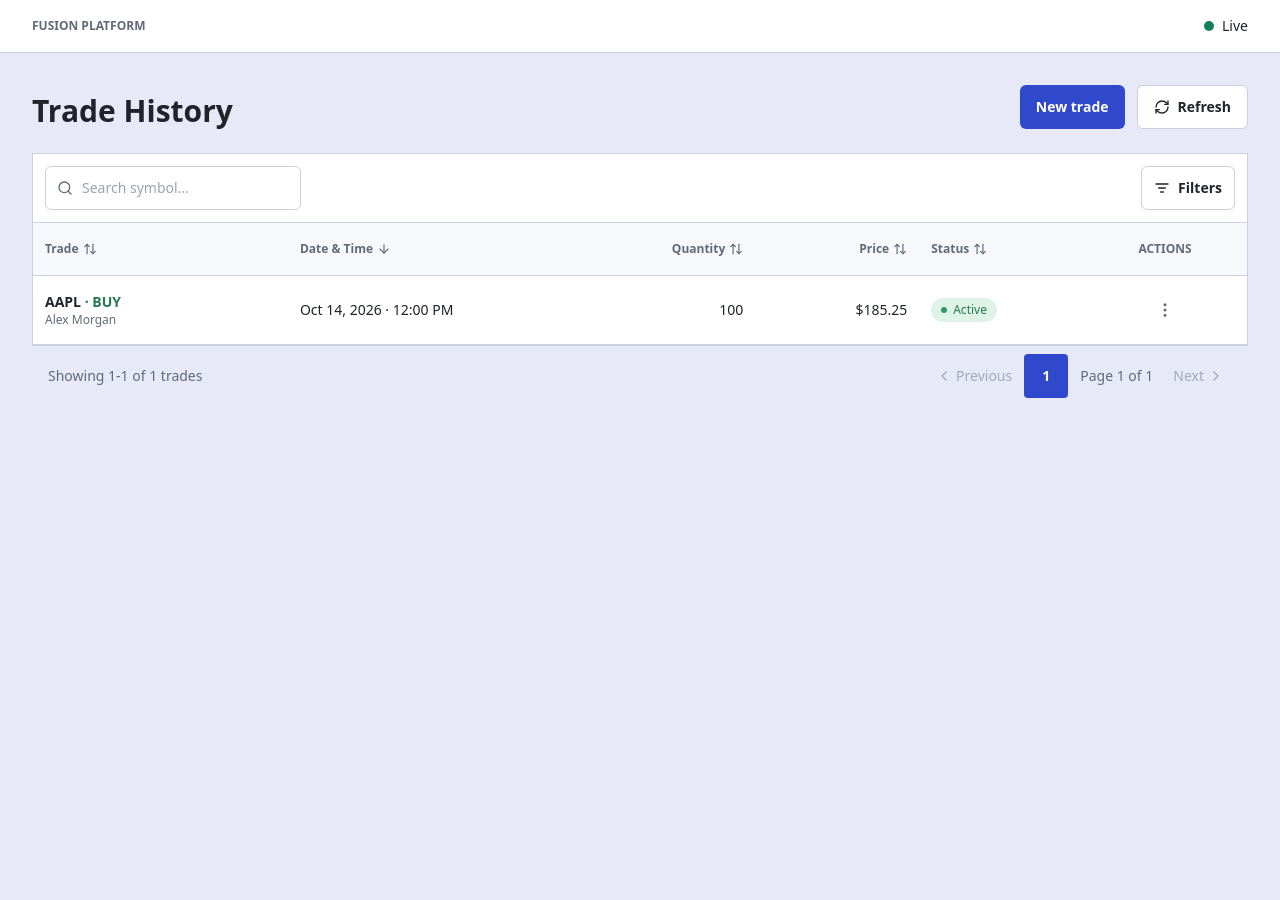
Test: TradeHistoryPage › cancels a selected trade and retains it with cancelled status
Click the button named "Trade actions for trade-1": (1165, 310) [1143, 288, 1187, 332]
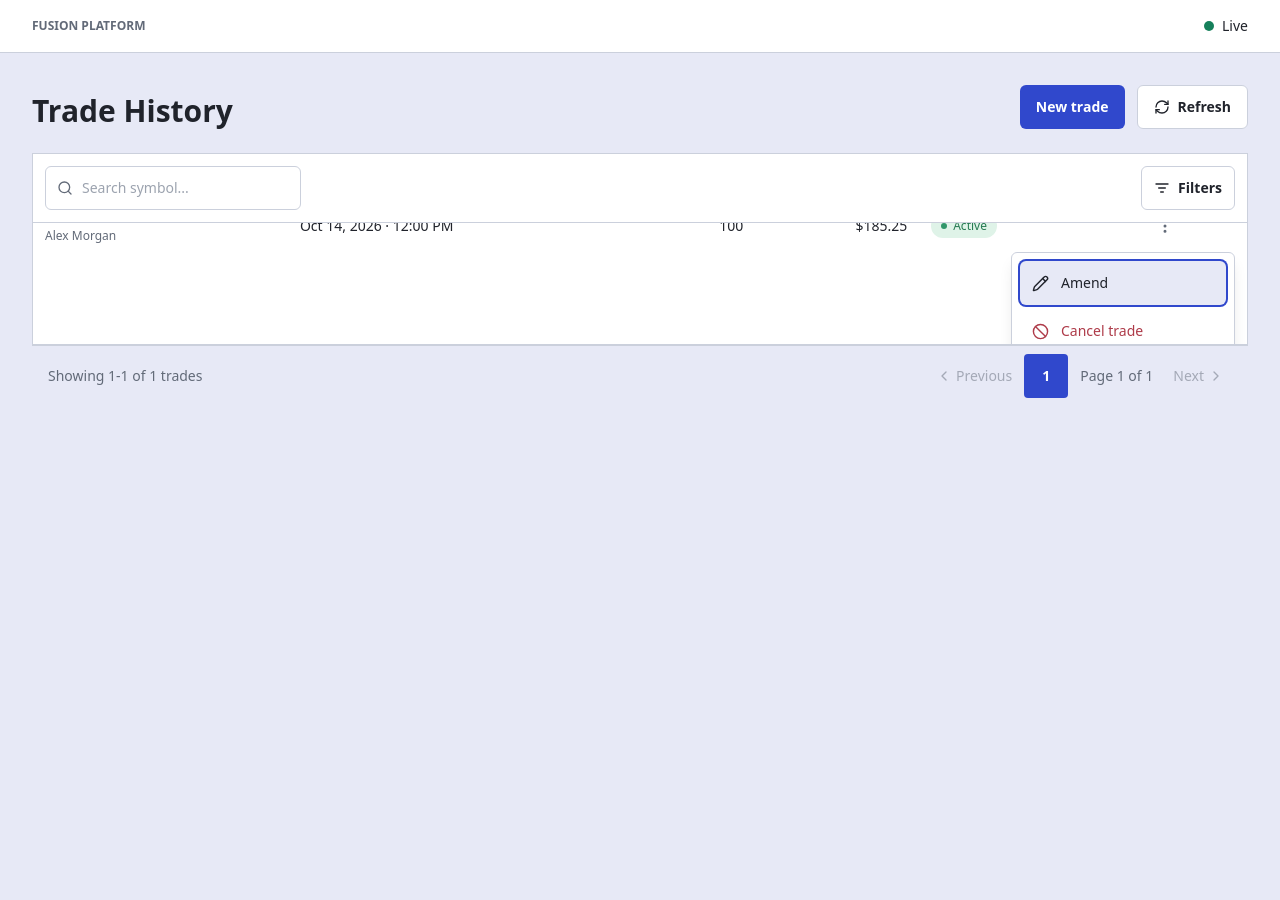
Click the menu item "Cancel trade": (1123, 331) [1020, 309, 1226, 353]
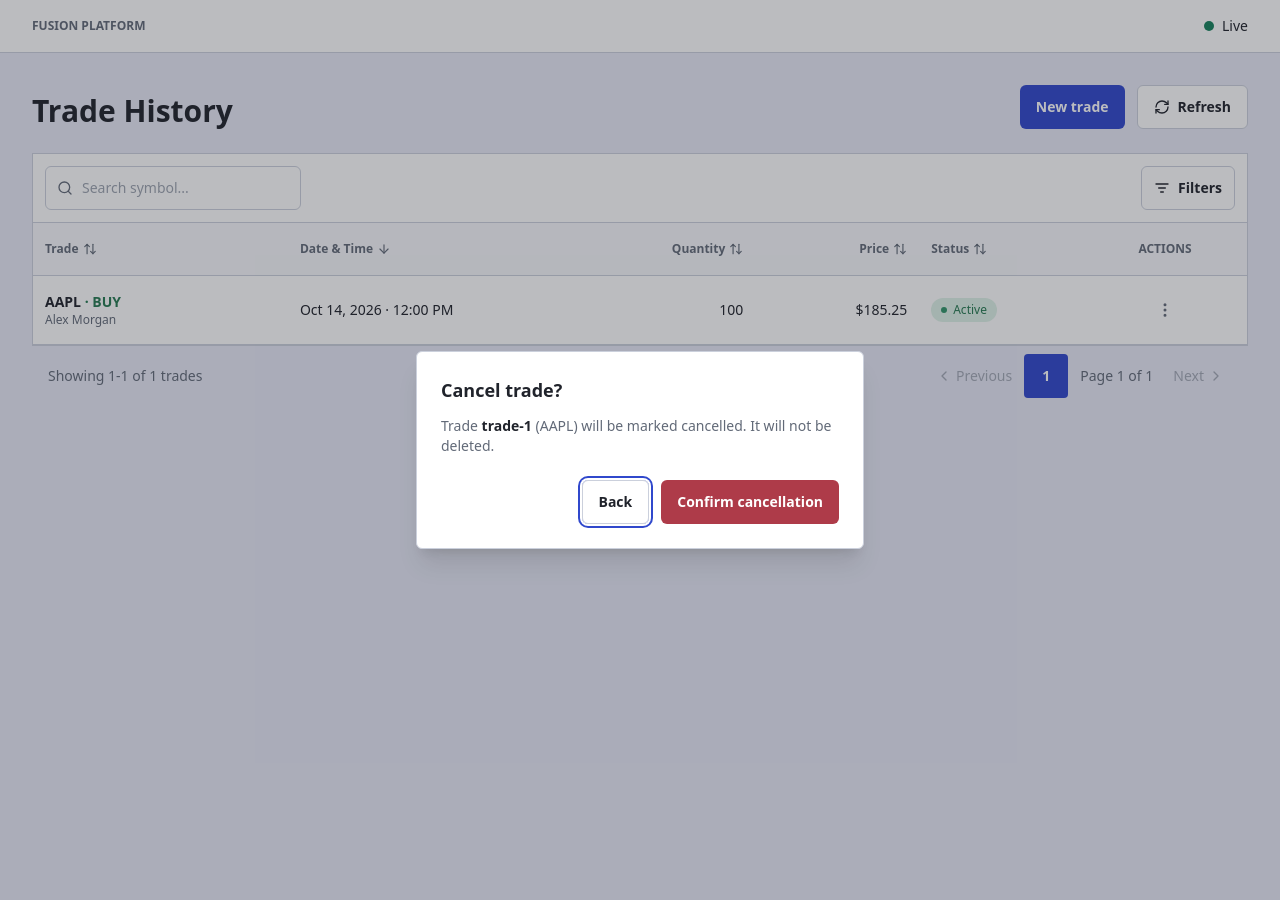
expect the dialog "Cancel trade?" is shown: met, box [416, 351, 864, 549]
Click the button "Confirm cancellation": (750, 502) [661, 480, 839, 524]
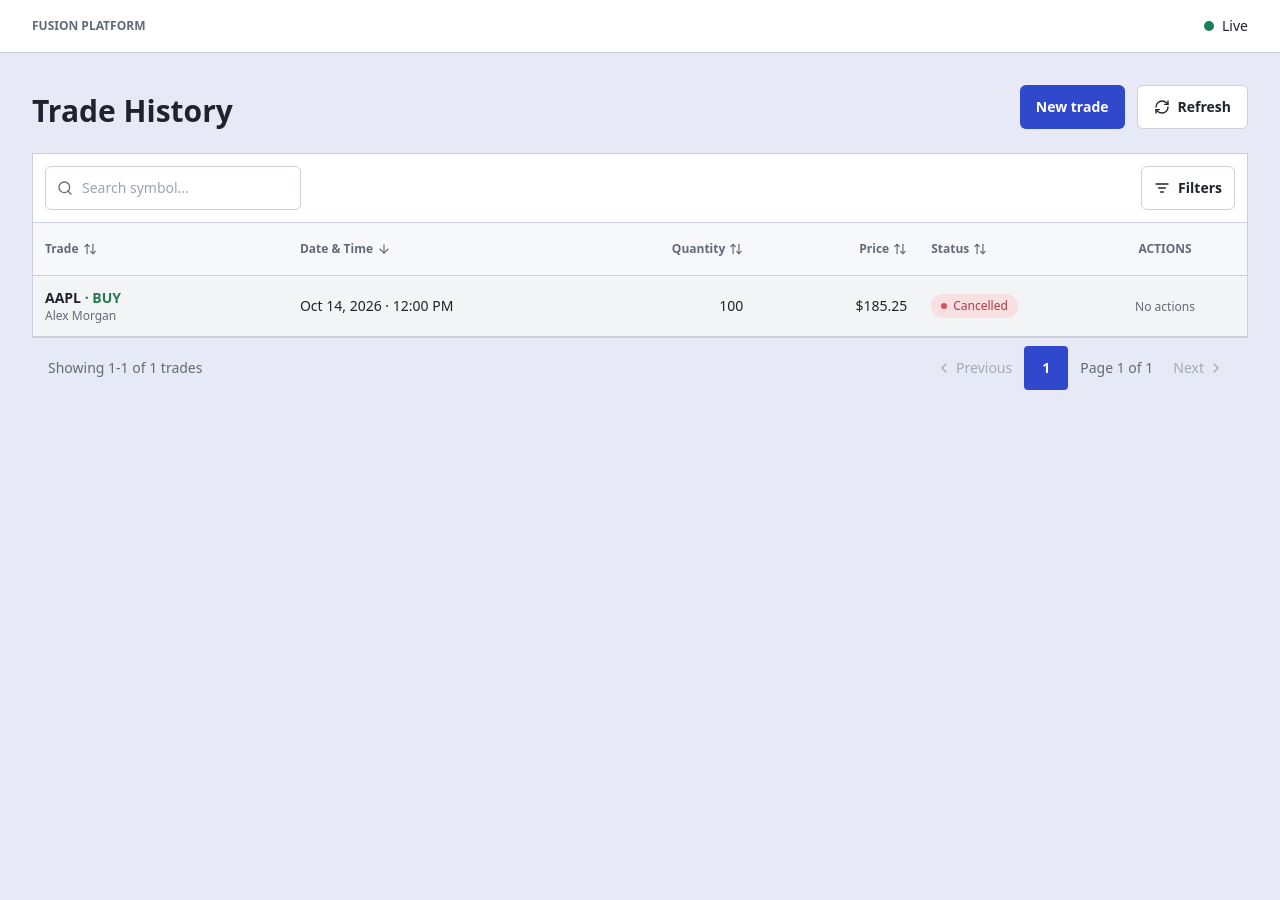
expect the row "AAPL" is shown: met, box [33, 276, 1247, 336]
expect the text "Cancelled" is shown: met, box [931, 294, 1018, 318]
